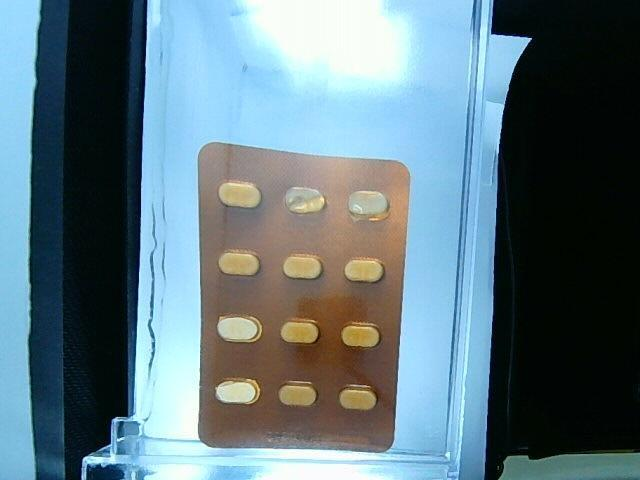Light Front: (195, 143, 412, 456)
No Pill Front: (348, 190, 390, 220), (218, 315, 263, 341), (215, 379, 260, 404), (285, 186, 326, 212)
Pill Front: (219, 181, 261, 207), (219, 250, 260, 275), (344, 258, 385, 282), (283, 254, 324, 278), (280, 319, 320, 343), (341, 323, 379, 348), (279, 381, 317, 405), (339, 385, 377, 409)
